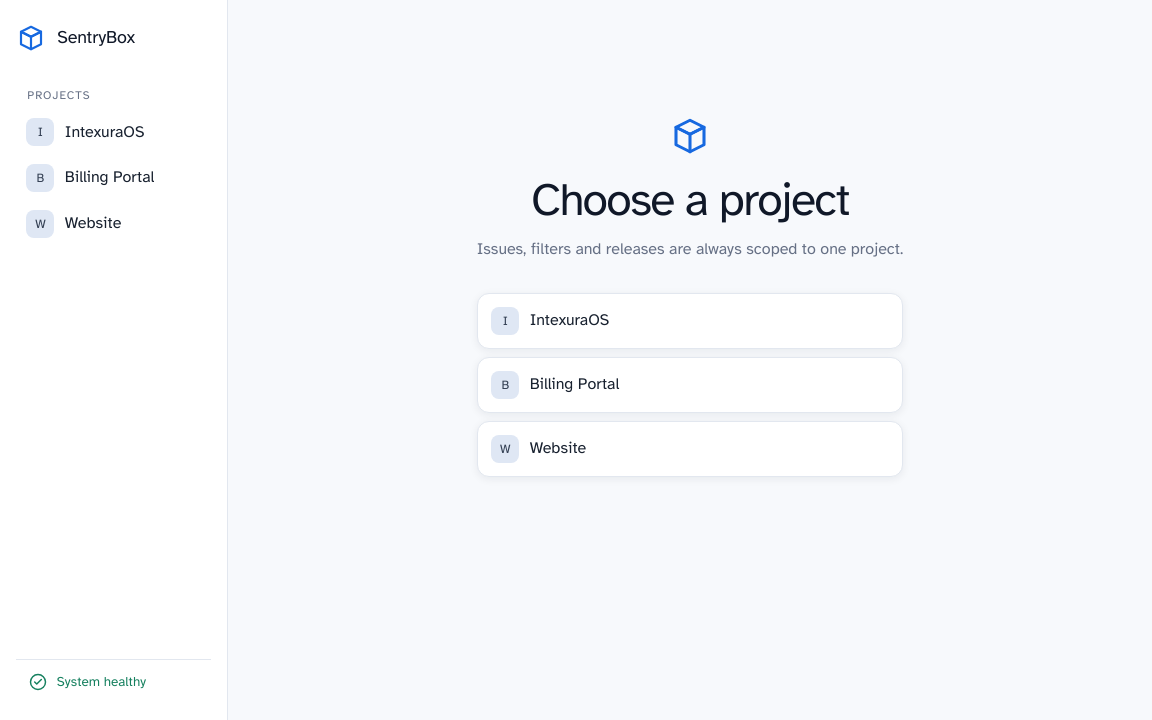
project-first issue list › requires a project before showing issues and stores the scope in the URL
This screenshot has width=1152, height=720.
Check: the element "Choose a project" is shown, box x1=477 y1=115 x2=903 y2=477
Click the button "I IntexuraOS" below "Choose a project" at (570, 320), box x1=477 y1=293 x2=903 y2=349
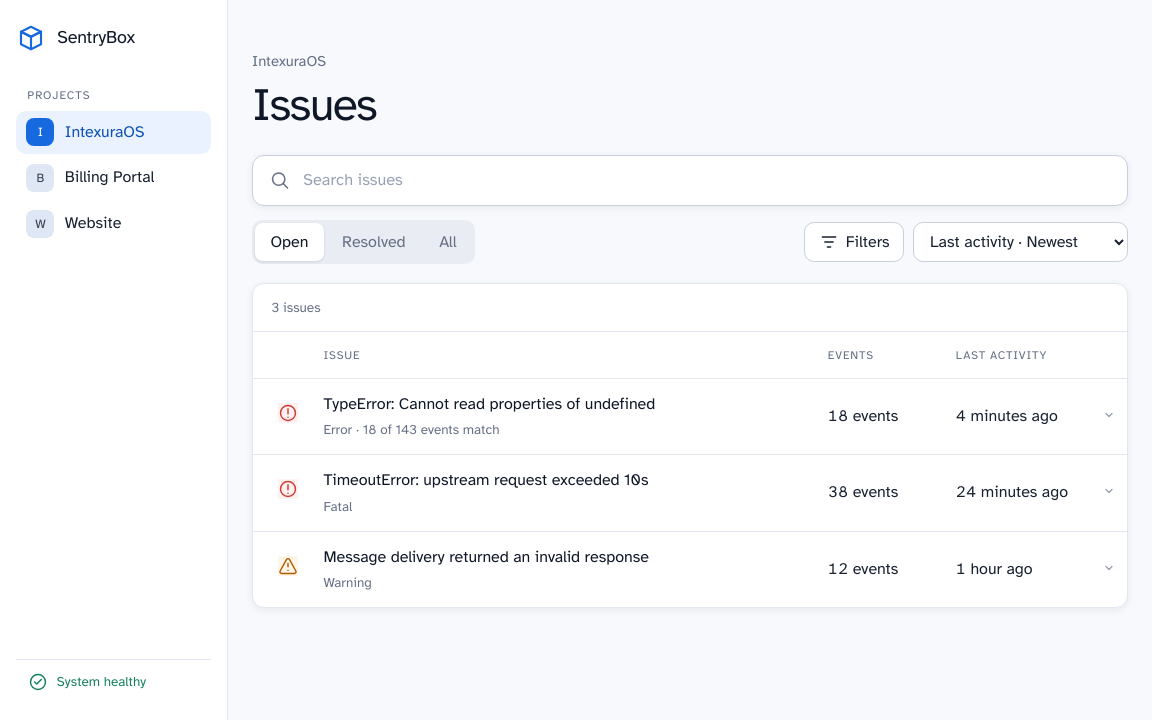
Check: the text "System healthy" is shown, box x1=57 y1=672 x2=146 y2=692
Check: the heading "Issues" is shown, box x1=252 y1=76 x2=376 y2=132
Check: the link "TypeError: Cannot read properties of undefined" is shown, box x1=323 y1=394 x2=655 y2=438
